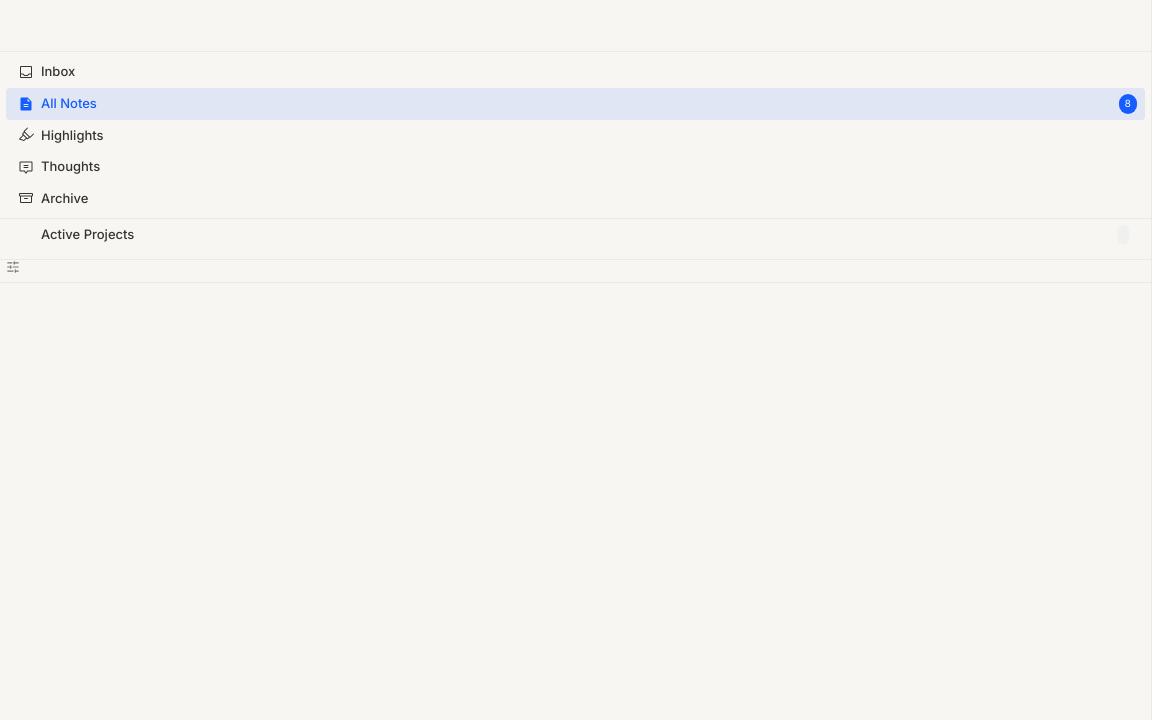
Test: Sidebar › view row actions › starts inline rename when the view row is double-clicked
The width and height of the screenshot is (1152, 720).
Double-click the button "Active Projects": (88, 234) 6,219 -> 1145,251
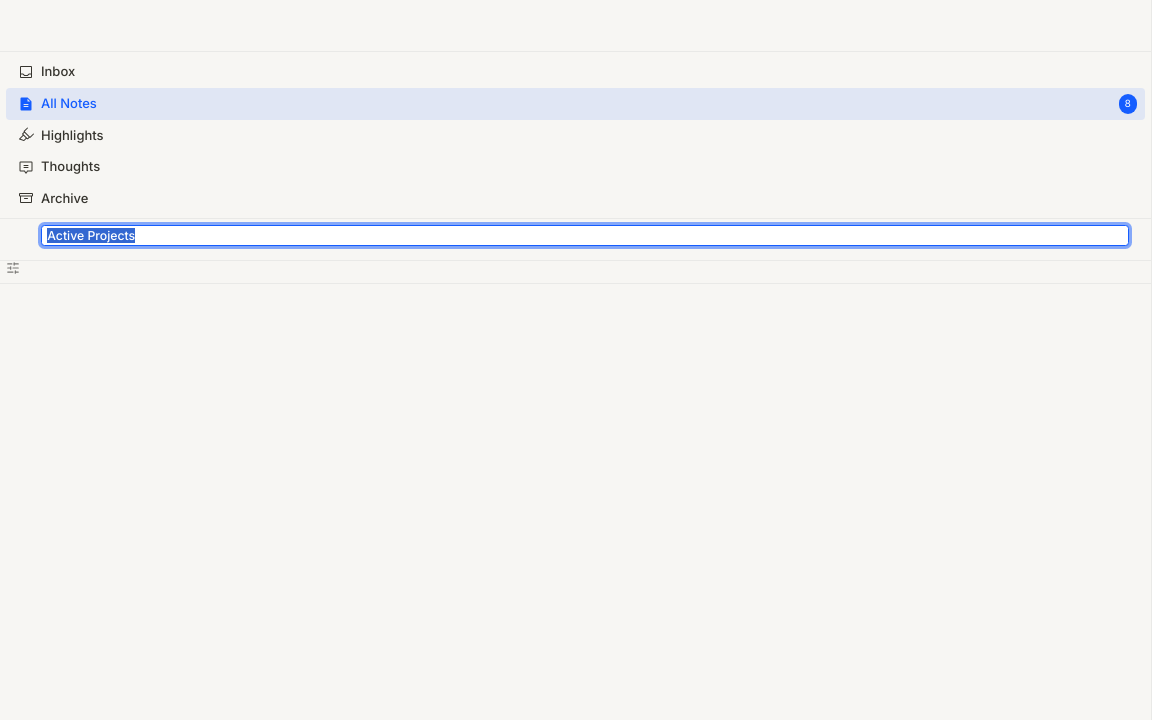
Expected: the field named "View name" holds "Active Projects", 41,225 -> 1129,246
